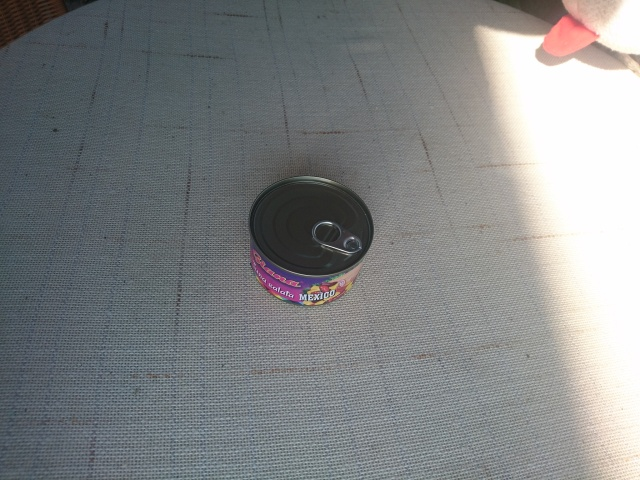Giana Tuna Salad Mexico 185g: (245, 172, 377, 309)
